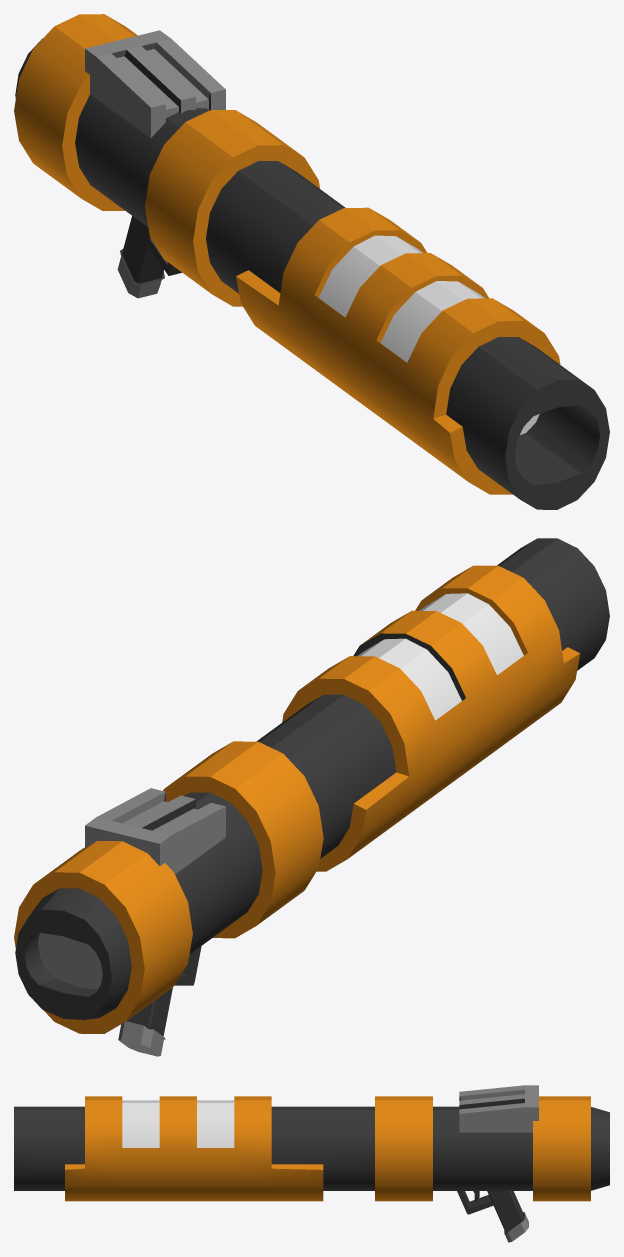
Rendered from Grenade Launcher.fbx.
The picture shows the model from 3 angles, top to bottom: view 1: azimuth 30°, elevation 25°; view 2: azimuth 150°, elevation 25°; view 3: azimuth 270°, elevation 25°; orthographic projection. The views are drawn at different scales.
Visible parts, largest first — view 1: Body, Holder; view 2: Body, Holder; view 3: Body, Holder.
Boxes of the visible parts, x1=… form: Body: x1=14, y1=14, x2=609, y2=509; Holder: x1=117, y1=216, x2=181, y2=298; Body: x1=14, y1=538, x2=609, y2=1033; Holder: x1=118, y1=946, x2=201, y2=1056; Body: x1=14, y1=1085, x2=609, y2=1201; Holder: x1=457, y1=1191, x2=528, y2=1242.
Bounding box in the file's own units: 0.4939 × 3.23 × 0.859.
